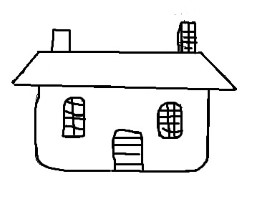chimney: (170, 12, 202, 56), (47, 23, 74, 53)
closed_window: (54, 93, 90, 140), (153, 98, 184, 144)
door: (109, 126, 151, 176)
roof: (5, 48, 238, 90)
wall: (29, 85, 220, 179)
